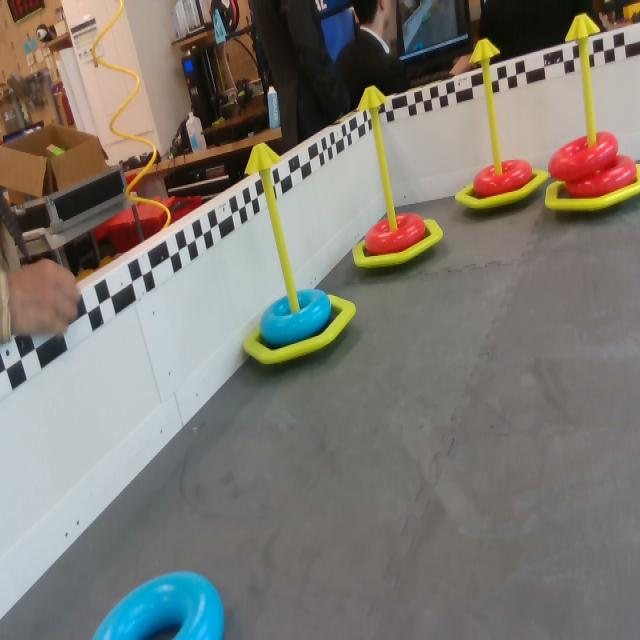Blue-Ring: (90, 572, 226, 639), (261, 290, 333, 344)
Mobile-Goal: (240, 138, 364, 373), (545, 11, 639, 213), (350, 81, 448, 271), (454, 40, 556, 212)
Red-Ring: (546, 131, 617, 183), (566, 153, 638, 197), (366, 213, 424, 259), (476, 158, 533, 198)
Yellow-Stake-Head: (244, 142, 284, 174), (566, 13, 600, 42), (355, 84, 389, 110), (469, 37, 501, 63)
